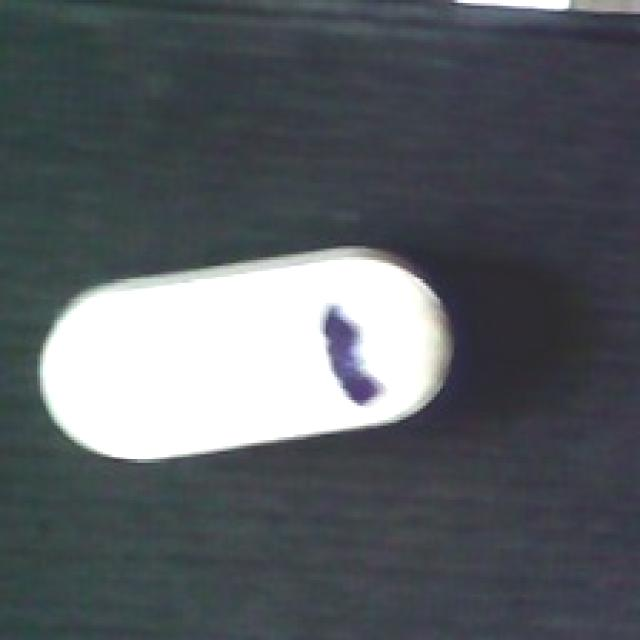defected: (34, 243, 463, 463)
